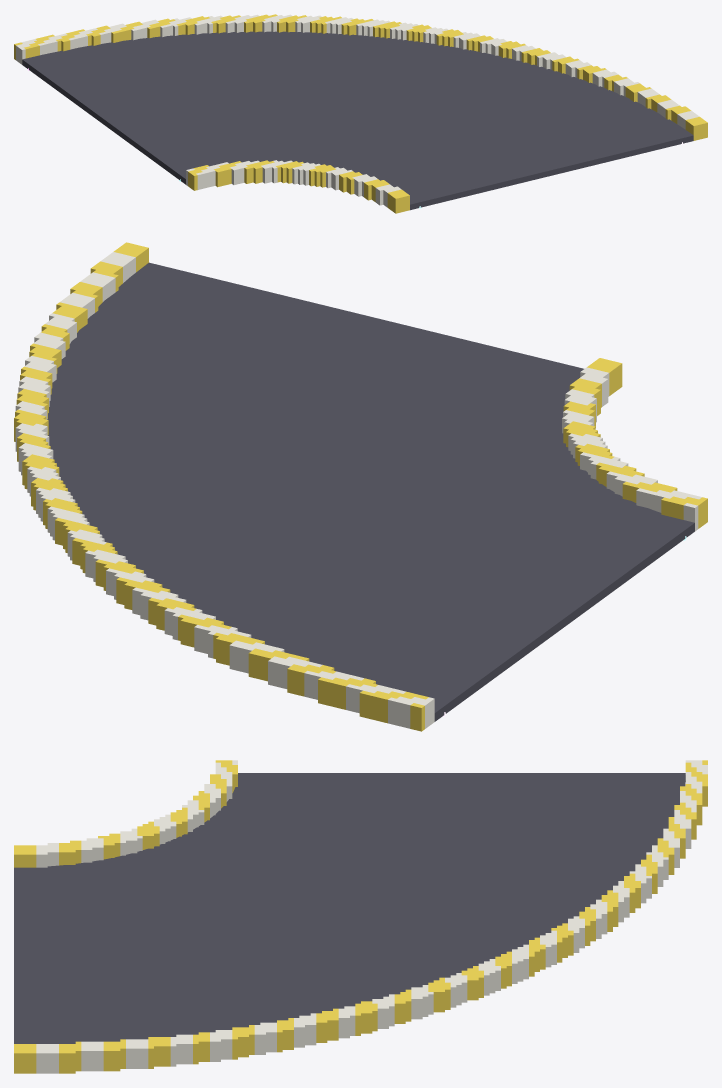
The picture shows the model from 3 angles, top to bottom: view 1: azimuth 30°, elevation 25°; view 2: azimuth 150°, elevation 25°; view 3: azimuth 270°, elevation 25°; orthographic projection. The views are drawn at different scales.
Parts seen in each view (by area): view 1: T02_Curve90_Mesh; view 2: T02_Curve90_Mesh; view 3: T02_Curve90_Mesh.
Boxes of the visible parts, left/top/right/bottom form: T02_Curve90_Mesh: left=14, top=14, right=707, bottom=213; T02_Curve90_Mesh: left=14, top=242, right=707, bottom=731; T02_Curve90_Mesh: left=14, top=760, right=707, bottom=1073.
Bounding box in the file's own units: 12.4 × 0.43 × 12.4.
